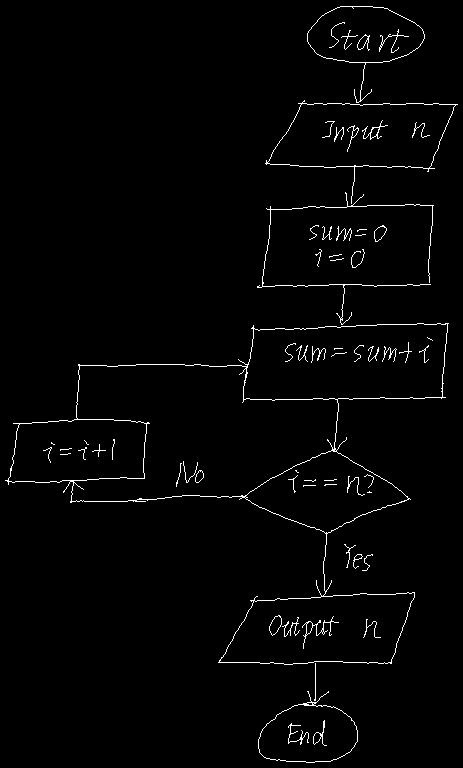arrow: (76, 359, 247, 419), (63, 480, 247, 502), (327, 399, 346, 451), (316, 532, 331, 596), (307, 663, 328, 704), (345, 165, 363, 206), (354, 63, 371, 102), (336, 284, 351, 324)
data: (218, 592, 414, 664), (265, 100, 457, 171)
decision: (239, 448, 410, 533)
process: (242, 323, 448, 402), (257, 204, 433, 287), (5, 419, 149, 484)
terminator: (307, 6, 424, 62), (258, 702, 357, 762)
text: (285, 337, 432, 362), (269, 615, 380, 648), (322, 120, 429, 151), (309, 225, 386, 267), (329, 22, 408, 52), (288, 470, 373, 495), (43, 439, 114, 462), (288, 720, 326, 745), (344, 544, 372, 570), (176, 461, 203, 486)
